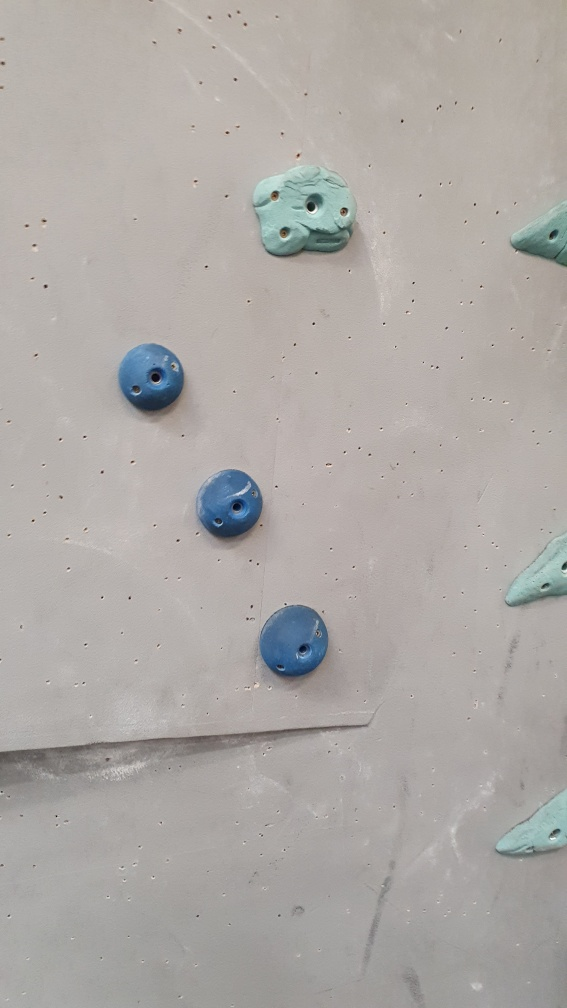Crimp: (491, 778, 567, 860), (494, 529, 567, 610), (506, 201, 567, 280)
Sloper: (258, 594, 334, 682), (198, 462, 270, 545), (115, 340, 189, 412)
